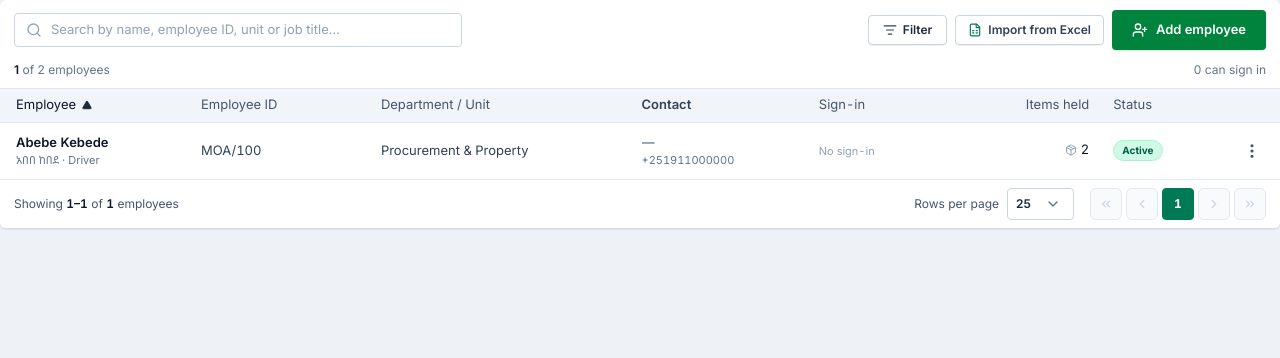
Scenario: Employees page › locks Deactivate for someone who still holds items
Click the button named "Actions for Abebe Kebede" at (1252, 151), box [1236,135,1268,167]
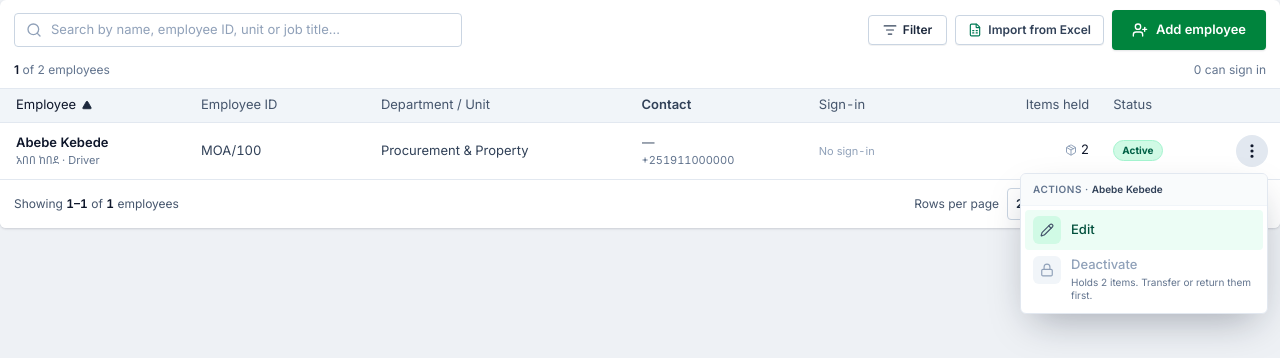
Expected: the menu item "Deactivate Holds 2 items. Transfer or return them first." is disabled, [1025,250,1263,309]
Expected: the menu item "Deactivate Holds 2 items. Transfer or return them first." is shown, [1025,250,1263,309]
